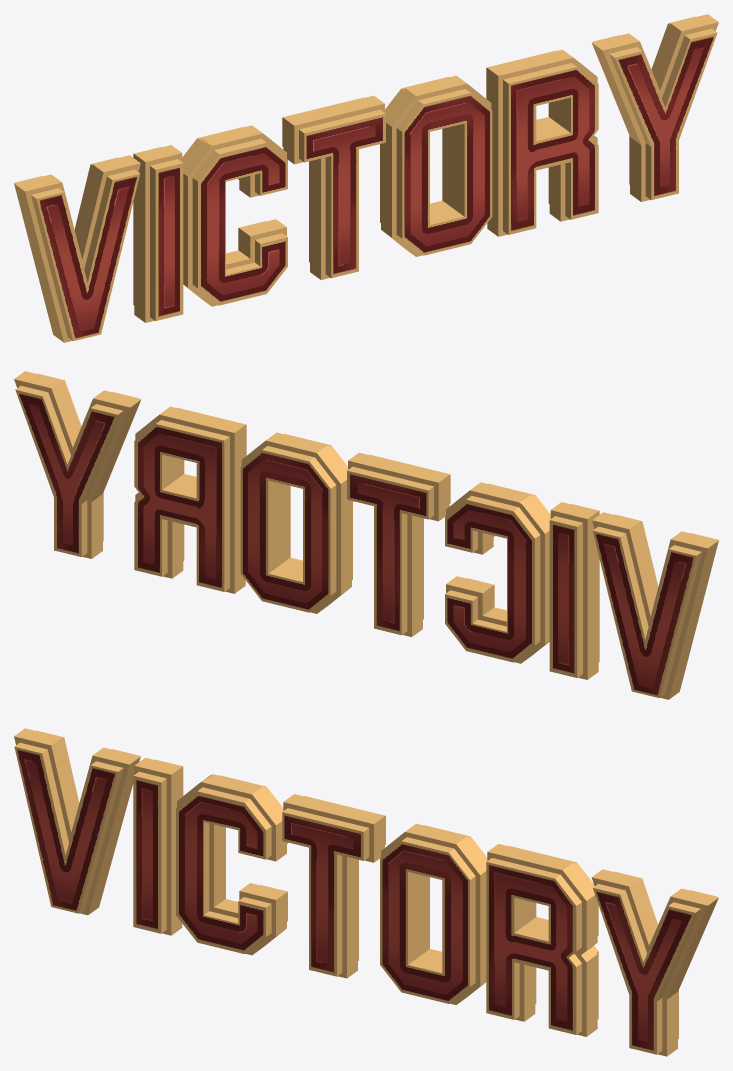
The model's file is Victory.fbx.
3 renders of one model, top to bottom at view 1: azimuth 30°, elevation 25°; view 2: azimuth 150°, elevation 25°; view 3: azimuth 330°, elevation 25°, orthographic.
Parts seen in each view (by area): view 1: typeMesh1; view 2: typeMesh1; view 3: typeMesh1.
Boxes of the visible parts, bbox=[...] form: typeMesh1: bbox=[14, 14, 718, 342]; typeMesh1: bbox=[14, 371, 718, 699]; typeMesh1: bbox=[14, 728, 718, 1056].
Bounding box in the file's own units: 45.33 × 10.04 × 2.5.
